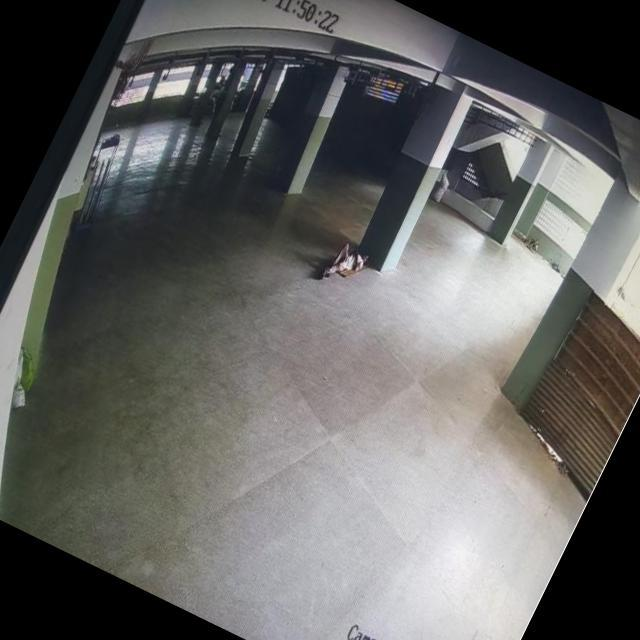person: (319, 233, 374, 294)
